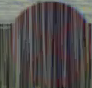No Stopping: (8, 5, 81, 82)
